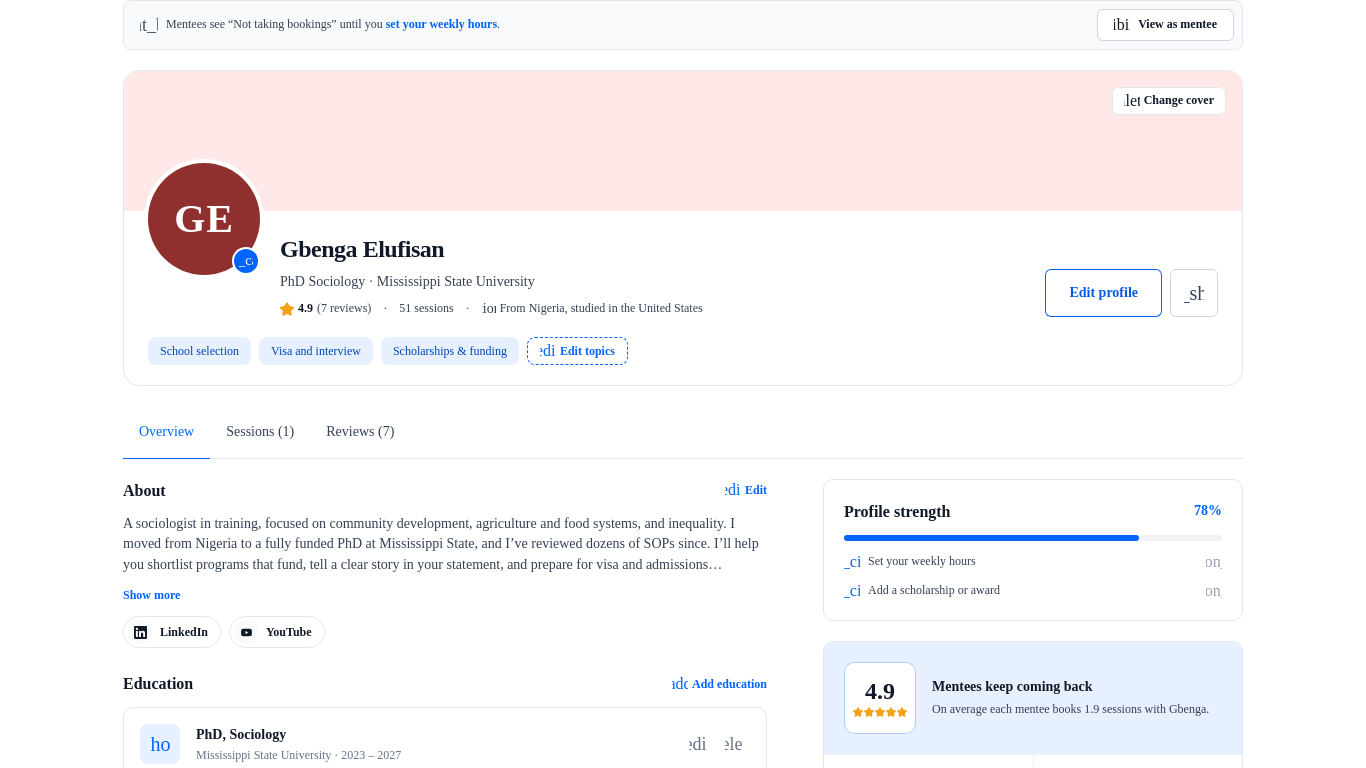
MentorProfileScreen — Profile strength › the owner sees how complete the profile is and the next two steps
Click the button "add_circle Add a scholarship or award chevron_right".
click(934, 590)  # box [844, 582, 1222, 600]
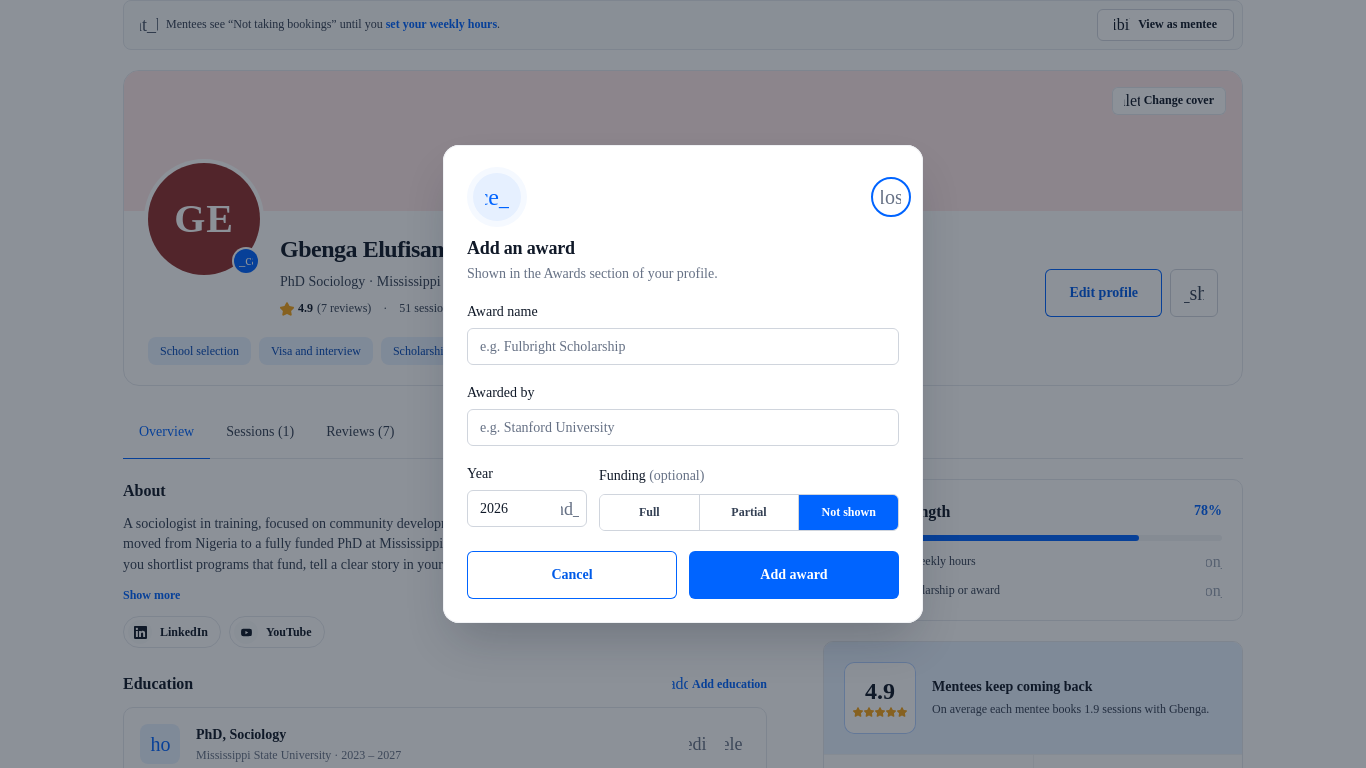
Check: the dialog "Add an award" is shown, box [443, 144, 923, 624]
